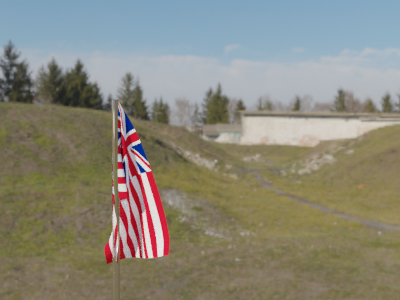Malaysia flag: (105, 100, 173, 265)
